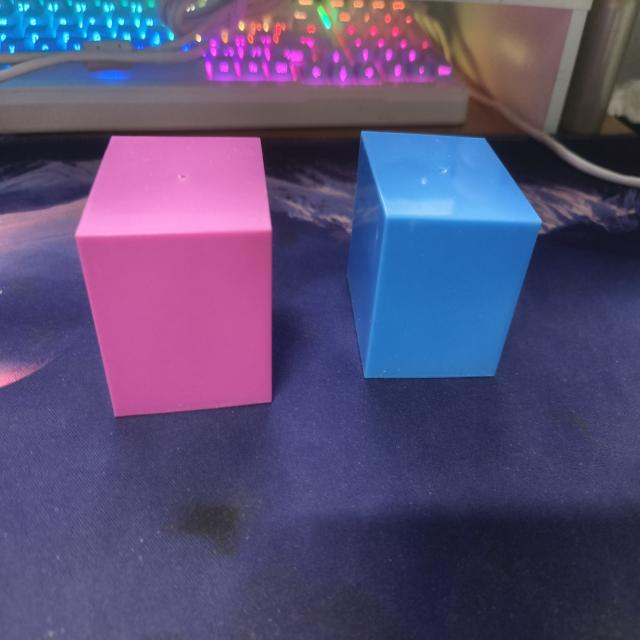blue: (346, 131, 542, 382)
pink: (74, 135, 274, 420)
